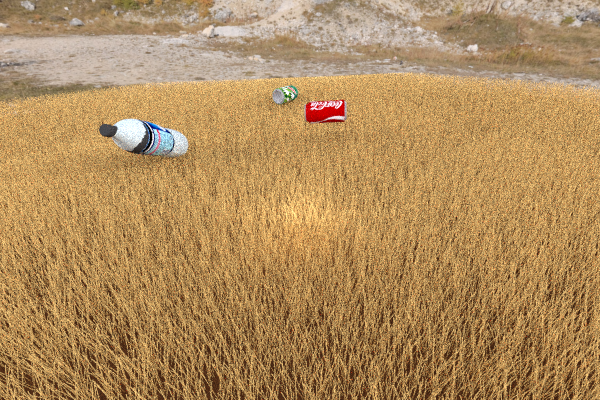bottle: (99, 118, 188, 157)
can: (304, 99, 346, 123), (272, 85, 298, 104)
